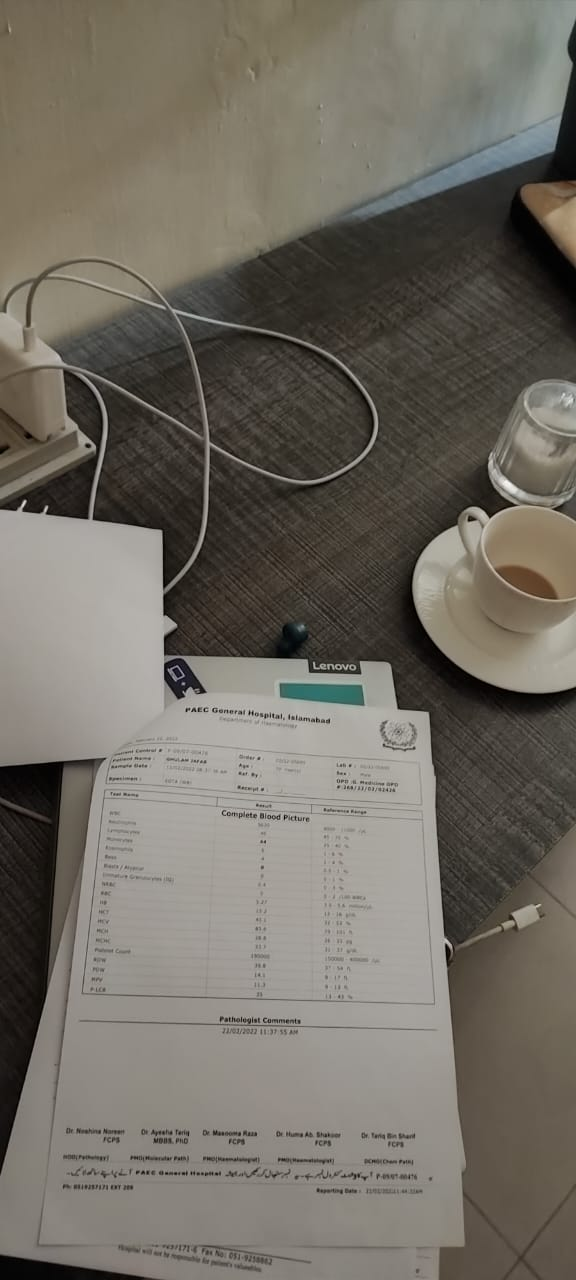report: (77, 807, 431, 1004)
